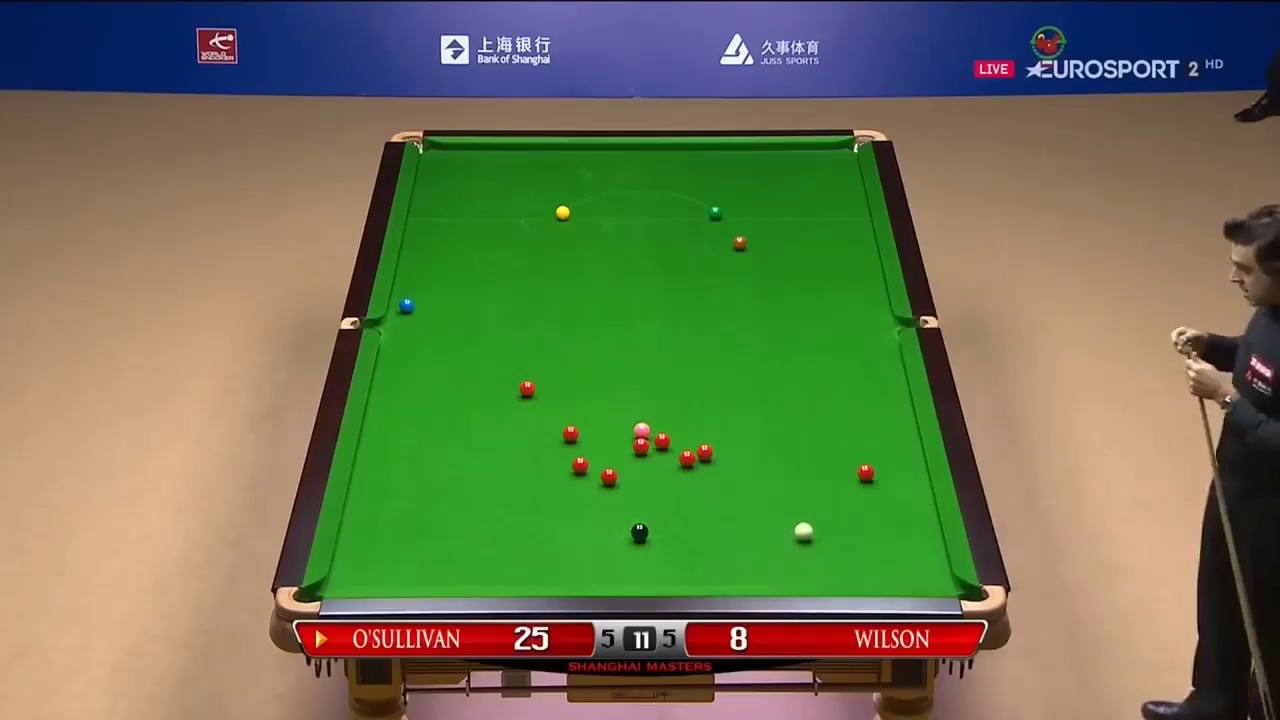ball: (790, 519, 817, 545), (652, 431, 671, 453), (629, 520, 649, 540), (854, 463, 876, 480), (632, 435, 648, 457), (517, 378, 534, 398), (729, 234, 747, 252), (598, 469, 618, 485), (571, 455, 587, 473), (552, 205, 569, 221), (563, 425, 579, 442), (679, 450, 695, 467), (705, 206, 722, 221), (635, 422, 651, 437), (398, 299, 412, 312)
